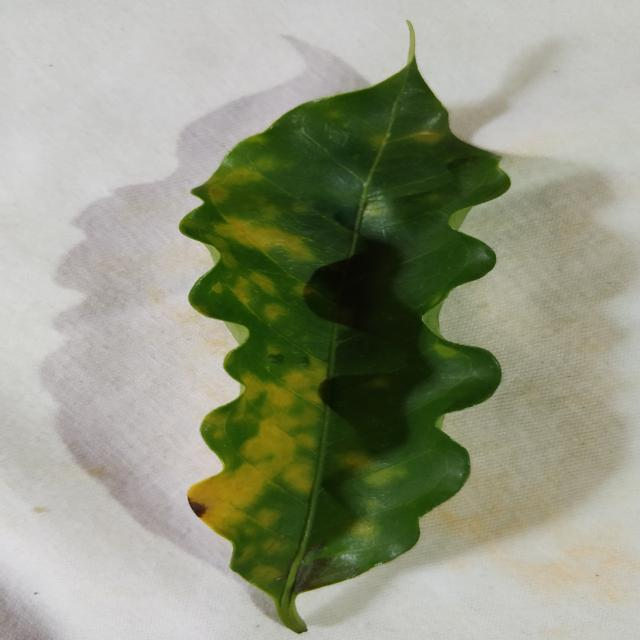Enfermedad-Roya: (176, 26, 512, 635)
